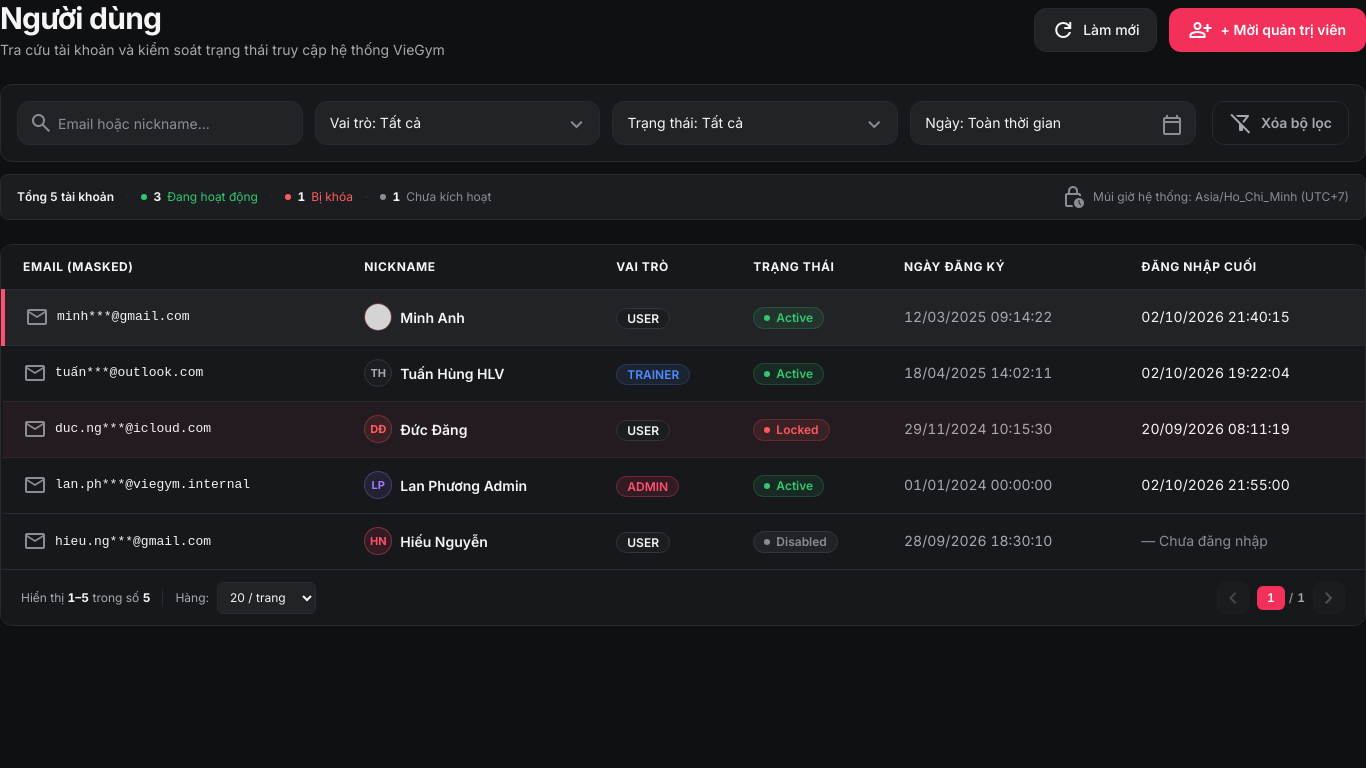
Test: UserListPage › opens user detail drawer when clicking a row
Click the text "Minh Anh". click: (433, 317)
box: top-left (400, 306), bottom-right (465, 328)
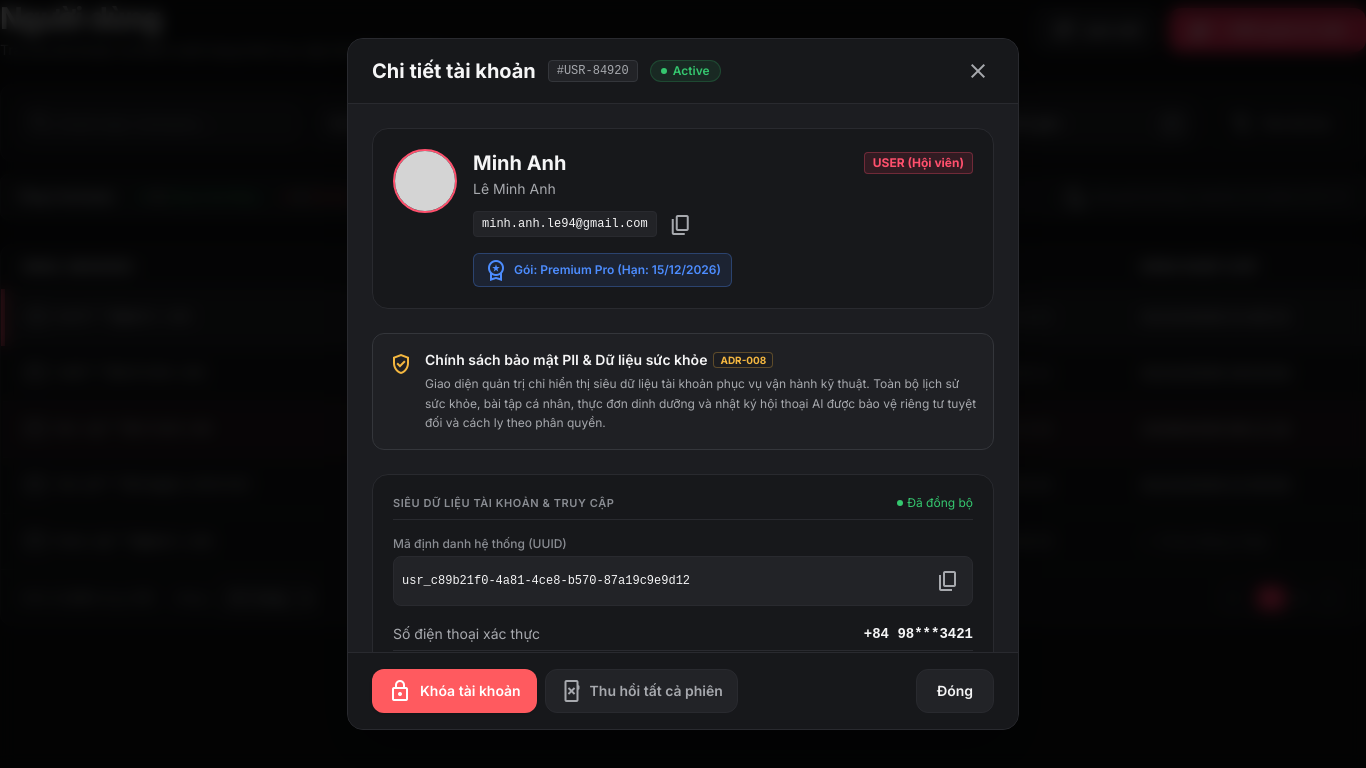
Result: the heading "Chi tiết tài khoản" is shown at top-left (372, 57), bottom-right (536, 85)
Result: the text "minh.anh.le94@gmail.com" is shown at top-left (473, 211), bottom-right (657, 237)
Result: the text "ADR-008" is shown at top-left (713, 352), bottom-right (773, 368)
